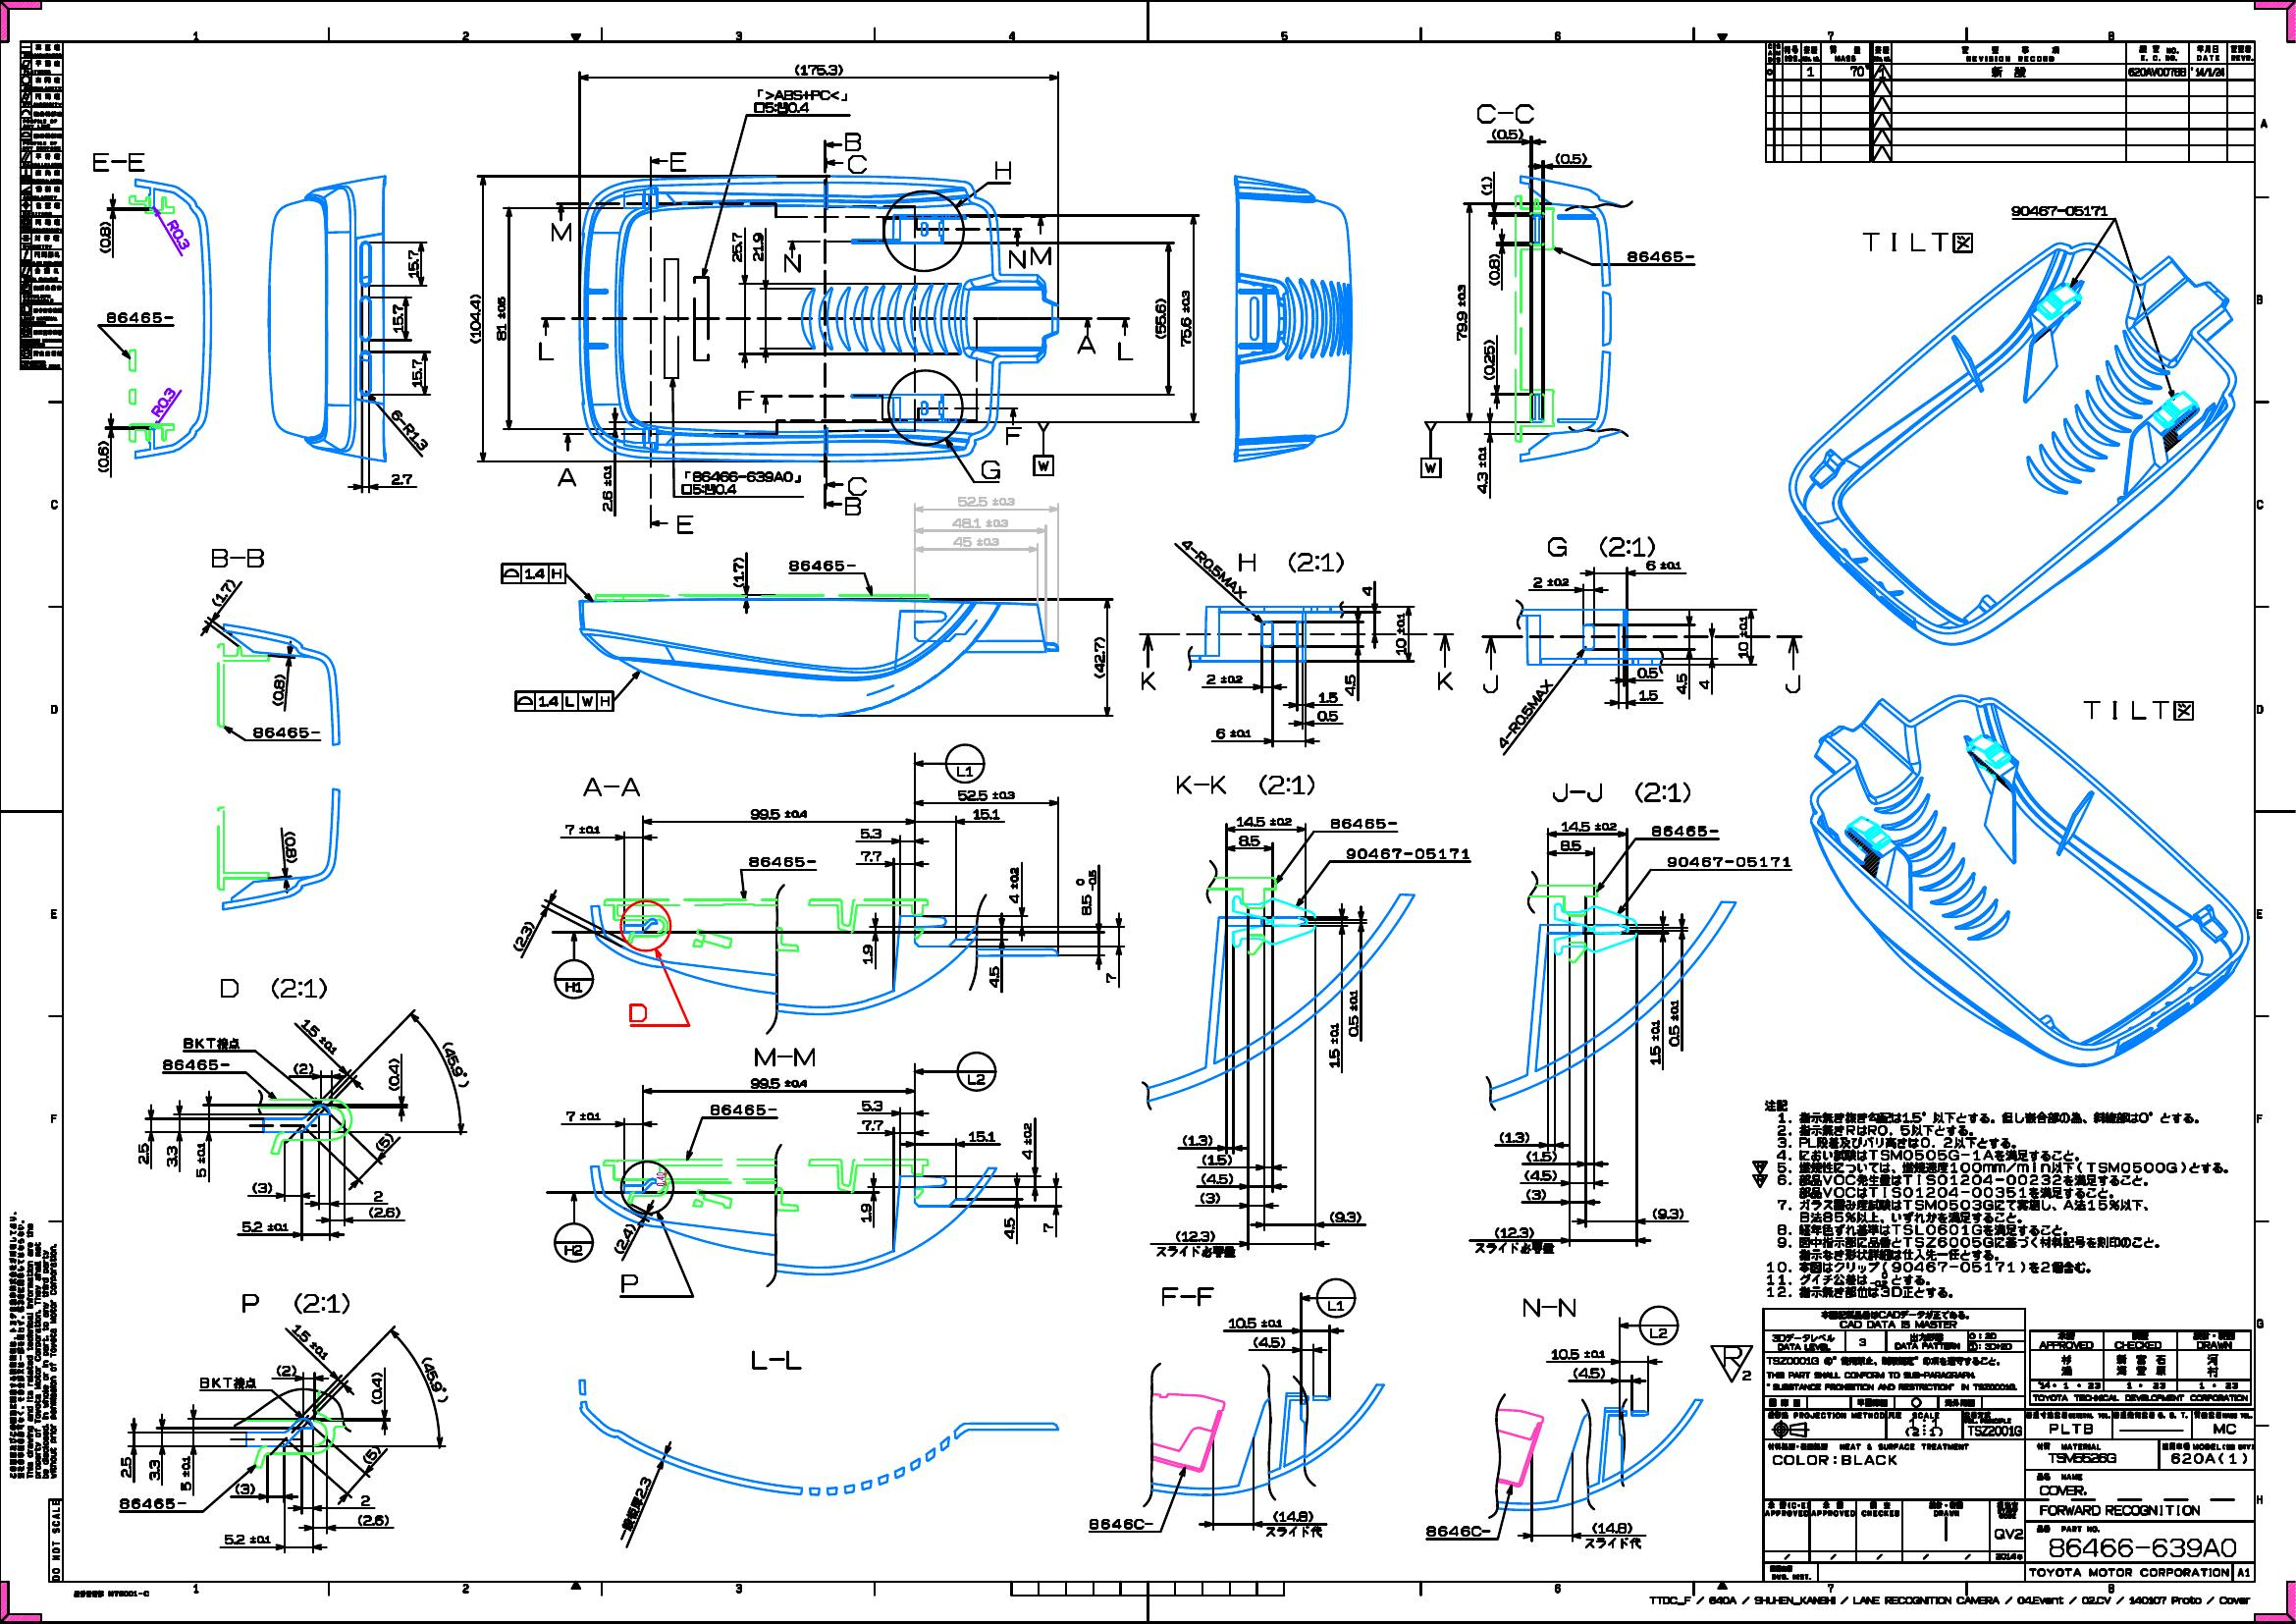anntotation_text: (1748, 1095, 2235, 1301), (5, 1209, 60, 1482), (1646, 1594, 2256, 1608), (1549, 779, 1692, 805), (678, 469, 801, 497), (1175, 773, 1316, 798), (1860, 228, 1975, 257), (2082, 698, 2198, 724), (1546, 533, 1657, 559), (1237, 550, 1346, 576), (241, 1292, 350, 1318), (750, 88, 848, 114), (220, 977, 327, 1000), (513, 689, 615, 712), (550, 1220, 596, 1265), (550, 956, 594, 1002), (1665, 852, 1790, 868), (1709, 1343, 1757, 1383), (954, 1051, 998, 1093), (945, 742, 987, 784), (1316, 1278, 1358, 1318), (1639, 1304, 1679, 1345), (1481, 705, 1572, 722), (1346, 847, 1470, 859), (594, 1501, 678, 1519), (1170, 561, 1260, 576), (750, 1048, 817, 1069), (1523, 1295, 1579, 1320), (581, 775, 641, 798), (1423, 1520, 1493, 1540), (47, 1497, 63, 1582), (248, 724, 321, 742), (1474, 102, 1535, 123), (750, 1346, 803, 1371), (1159, 1285, 1216, 1308), (501, 562, 566, 582), (91, 149, 146, 172), (2010, 204, 2108, 216), (116, 1496, 190, 1512), (1648, 823, 1720, 838), (1326, 816, 1398, 831), (1156, 1244, 1237, 1258), (787, 557, 857, 573), (708, 1102, 778, 1118), (104, 309, 174, 325), (211, 548, 264, 568), (1625, 250, 1697, 264), (1474, 1243, 1555, 1255), (748, 856, 819, 870), (1087, 1517, 1154, 1531), (181, 1035, 239, 1051), (381, 425, 437, 441), (1586, 1536, 1643, 1550), (1263, 1526, 1325, 1538), (197, 1376, 256, 1388), (163, 1060, 230, 1070), (72, 1589, 151, 1598), (1029, 453, 1056, 478), (1418, 455, 1444, 480), (1433, 668, 1456, 692), (1029, 246, 1054, 269), (1114, 339, 1137, 362), (1075, 334, 1098, 357), (1781, 673, 1802, 696), (847, 153, 870, 174), (673, 513, 696, 534), (550, 221, 573, 243), (1481, 673, 1500, 698), (1137, 668, 1156, 692), (1003, 425, 1024, 446), (841, 496, 863, 517), (618, 1272, 641, 1292), (843, 130, 863, 153), (980, 459, 1000, 482), (782, 253, 803, 272), (1007, 248, 1026, 269), (847, 475, 866, 496), (555, 468, 576, 487), (538, 341, 557, 362), (669, 149, 687, 170), (738, 390, 754, 411)
dimension_text: (1075, 866, 1098, 919), (283, 1332, 339, 1352), (1558, 819, 1618, 835), (408, 1373, 460, 1390), (956, 789, 1017, 803), (430, 1056, 480, 1074), (241, 1218, 290, 1236), (956, 494, 1015, 508), (1179, 288, 1193, 348), (950, 515, 1008, 529), (750, 1076, 808, 1090), (1549, 1348, 1607, 1362), (1455, 283, 1469, 341), (1237, 814, 1293, 828), (1736, 612, 1751, 661), (599, 464, 615, 513), (1474, 445, 1490, 492), (293, 1030, 346, 1044), (750, 807, 810, 819), (1667, 998, 1681, 1049), (469, 292, 483, 343), (1226, 1316, 1284, 1329), (952, 534, 1001, 548), (792, 63, 841, 77), (1650, 1018, 1664, 1067), (260, 682, 299, 700), (1019, 1123, 1036, 1162), (1650, 1204, 1685, 1223), (1175, 1227, 1217, 1243), (1481, 337, 1497, 380), (160, 227, 197, 244), (1393, 610, 1407, 656), (1326, 1023, 1340, 1069), (271, 838, 311, 854), (221, 1534, 272, 1547), (207, 584, 242, 601), (1253, 1334, 1288, 1352), (1491, 1223, 1535, 1237), (95, 220, 112, 255), (144, 395, 183, 411), (1347, 988, 1360, 1037), (1592, 1520, 1634, 1534), (1643, 559, 1685, 573), (1093, 634, 1107, 677), (1490, 125, 1523, 142), (179, 1455, 195, 1492), (562, 1109, 603, 1123), (1007, 865, 1021, 905), (409, 355, 425, 390), (1532, 575, 1570, 589), (606, 1230, 645, 1244), (1272, 1510, 1316, 1522), (1200, 1169, 1233, 1185), (1497, 1128, 1530, 1144), (95, 439, 111, 473), (386, 1058, 402, 1091), (1214, 724, 1251, 738), (1570, 1366, 1607, 1380), (1521, 1165, 1558, 1179), (1154, 297, 1166, 339), (1182, 1132, 1214, 1148), (1527, 1149, 1558, 1165), (1555, 149, 1586, 165), (729, 557, 745, 589), (562, 823, 603, 835), (1205, 671, 1245, 684), (193, 1141, 206, 1181), (506, 928, 541, 942), (1330, 1209, 1365, 1223), (1203, 1149, 1231, 1167), (1486, 253, 1500, 288), (993, 158, 1014, 181), (495, 295, 506, 341), (355, 1513, 388, 1527), (750, 230, 764, 262), (369, 1369, 381, 1404), (968, 1128, 998, 1142), (369, 1206, 399, 1220), (859, 1098, 885, 1114), (987, 965, 1003, 991), (163, 1144, 179, 1171), (374, 1135, 397, 1153), (971, 807, 1000, 821), (386, 473, 415, 487), (857, 1202, 873, 1227), (1523, 1186, 1548, 1202), (358, 1446, 383, 1462), (1342, 673, 1356, 700), (733, 230, 743, 265), (1674, 673, 1690, 696), (274, 1362, 297, 1378), (251, 1179, 274, 1195), (118, 1455, 132, 1480), (408, 248, 418, 279), (859, 849, 885, 861), (861, 942, 875, 965), (859, 826, 882, 840), (1316, 708, 1339, 722), (1316, 689, 1339, 703), (1238, 833, 1261, 847), (1637, 666, 1660, 680), (1479, 174, 1493, 197), (148, 1459, 162, 1482), (292, 1062, 314, 1076), (392, 304, 402, 334), (863, 1118, 882, 1134), (1003, 1216, 1015, 1241), (137, 1141, 149, 1165), (1639, 689, 1660, 703), (1558, 838, 1581, 851), (1198, 1192, 1223, 1202), (234, 1483, 255, 1496), (1040, 1218, 1056, 1234), (358, 1496, 374, 1510), (1105, 970, 1117, 986), (1360, 585, 1374, 598), (371, 1188, 383, 1202), (1699, 677, 1711, 689)
object: (1788, 241, 2235, 647), (1808, 692, 2252, 1069), (581, 176, 1059, 462), (1144, 874, 1418, 1104), (574, 589, 1063, 717), (574, 1376, 1065, 1497), (1486, 879, 1739, 1106), (588, 895, 1059, 1016), (587, 1156, 998, 1278), (214, 622, 343, 914), (1231, 172, 1354, 468), (265, 170, 386, 464), (1514, 174, 1625, 464), (1147, 1381, 1388, 1496), (1493, 1397, 1702, 1512), (126, 178, 209, 459), (1184, 603, 1353, 664), (235, 1387, 350, 1468), (1516, 606, 1665, 666), (253, 1095, 355, 1155)
title_block: (1762, 1311, 2254, 1580), (1765, 42, 2256, 163), (21, 40, 63, 371)
